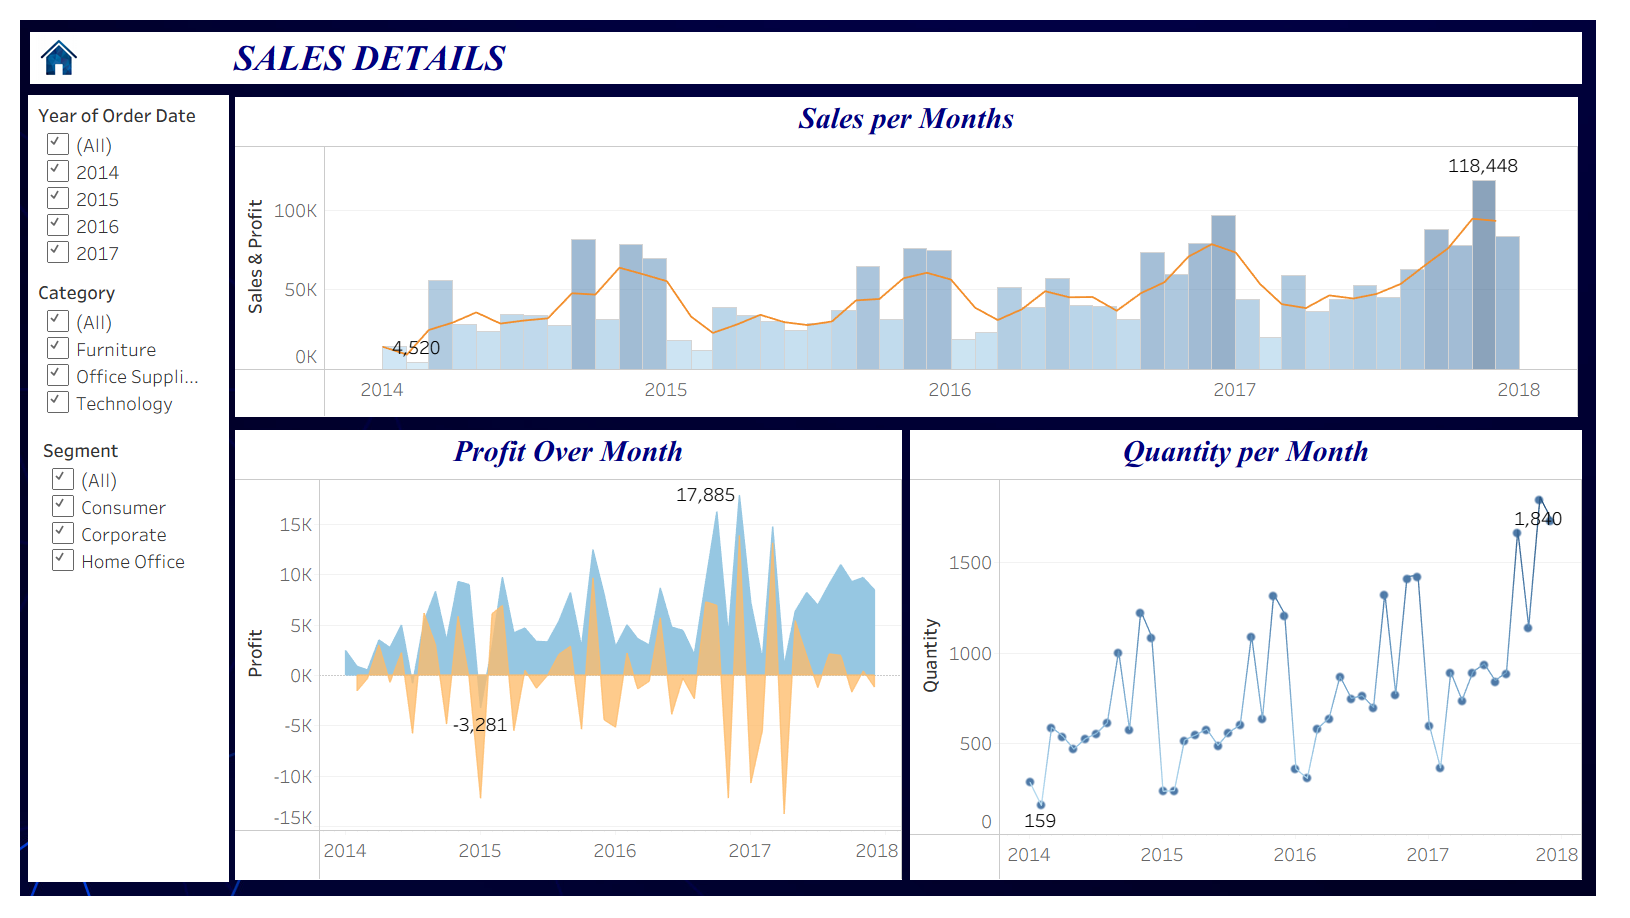

The dashboard page shown, as its layout file describes it:
{"tool":"tableau","page":{"name":"Sales Details","canvas":[1600,900],"ordinal":0},"visuals":[{"type":"image","param":"C:/Users/vshivani/Desktop/shivani/Tableau/6. superstore sales dataset/images/901","box":[8,8,1584,884]},{"type":"text","box":[18,20,1560,60]},{"type":"dashboard-object","box":[26,25,48,48]},{"type":"worksheet","title":"Sales per Months","mark":"Bar","rows":["Sales","Sales"],"cols":["Order Date"],"box":[223,85,1351,328]},{"type":"filter","title":"Sales per Months","param":"[federated.0843jlg0slxx4w1dko3b10s51acw].[yr:Order Date:ok]","box":[30,94,168,175]},{"type":"filter","title":"Sales per Months","param":"[federated.0843jlg0slxx4w1dko3b10s51acw].[none:Category:nk]","box":[30,271,168,148]},{"type":"worksheet","title":"Profit Over Month","mark":"Area","rows":["Profit","Profit"],"cols":["Order Date"],"box":[223,418,675,458]},{"type":"worksheet","title":"Quantity per Month","mark":"Circle","rows":["Quantity","Quantity"],"cols":["Order Date"],"box":[898,418,680,458]},{"type":"filter","title":"Sales per Months","param":"[federated.0843jlg0slxx4w1dko3b10s51acw].[none:Segment:nk]","box":[35,429,168,148]}]}

Visuals, with their boxes in screenshot pixels (x1, y1, x2, y2), scaled from the page's 1600x900 canvas onto the 1630x918 screenshot:
image: [8,8,1622,910]
text: [18,20,1608,82]
dashboard-object: [26,26,75,74]
"Sales per Months" worksheet (Bar marks): [227,87,1604,421]
"Sales per Months" filter: [31,96,202,274]
"Sales per Months" filter: [31,276,202,427]
"Profit Over Month" worksheet (Area marks): [227,426,915,894]
"Quantity per Month" worksheet (Circle marks): [915,426,1608,894]
"Sales per Months" filter: [36,438,207,589]
